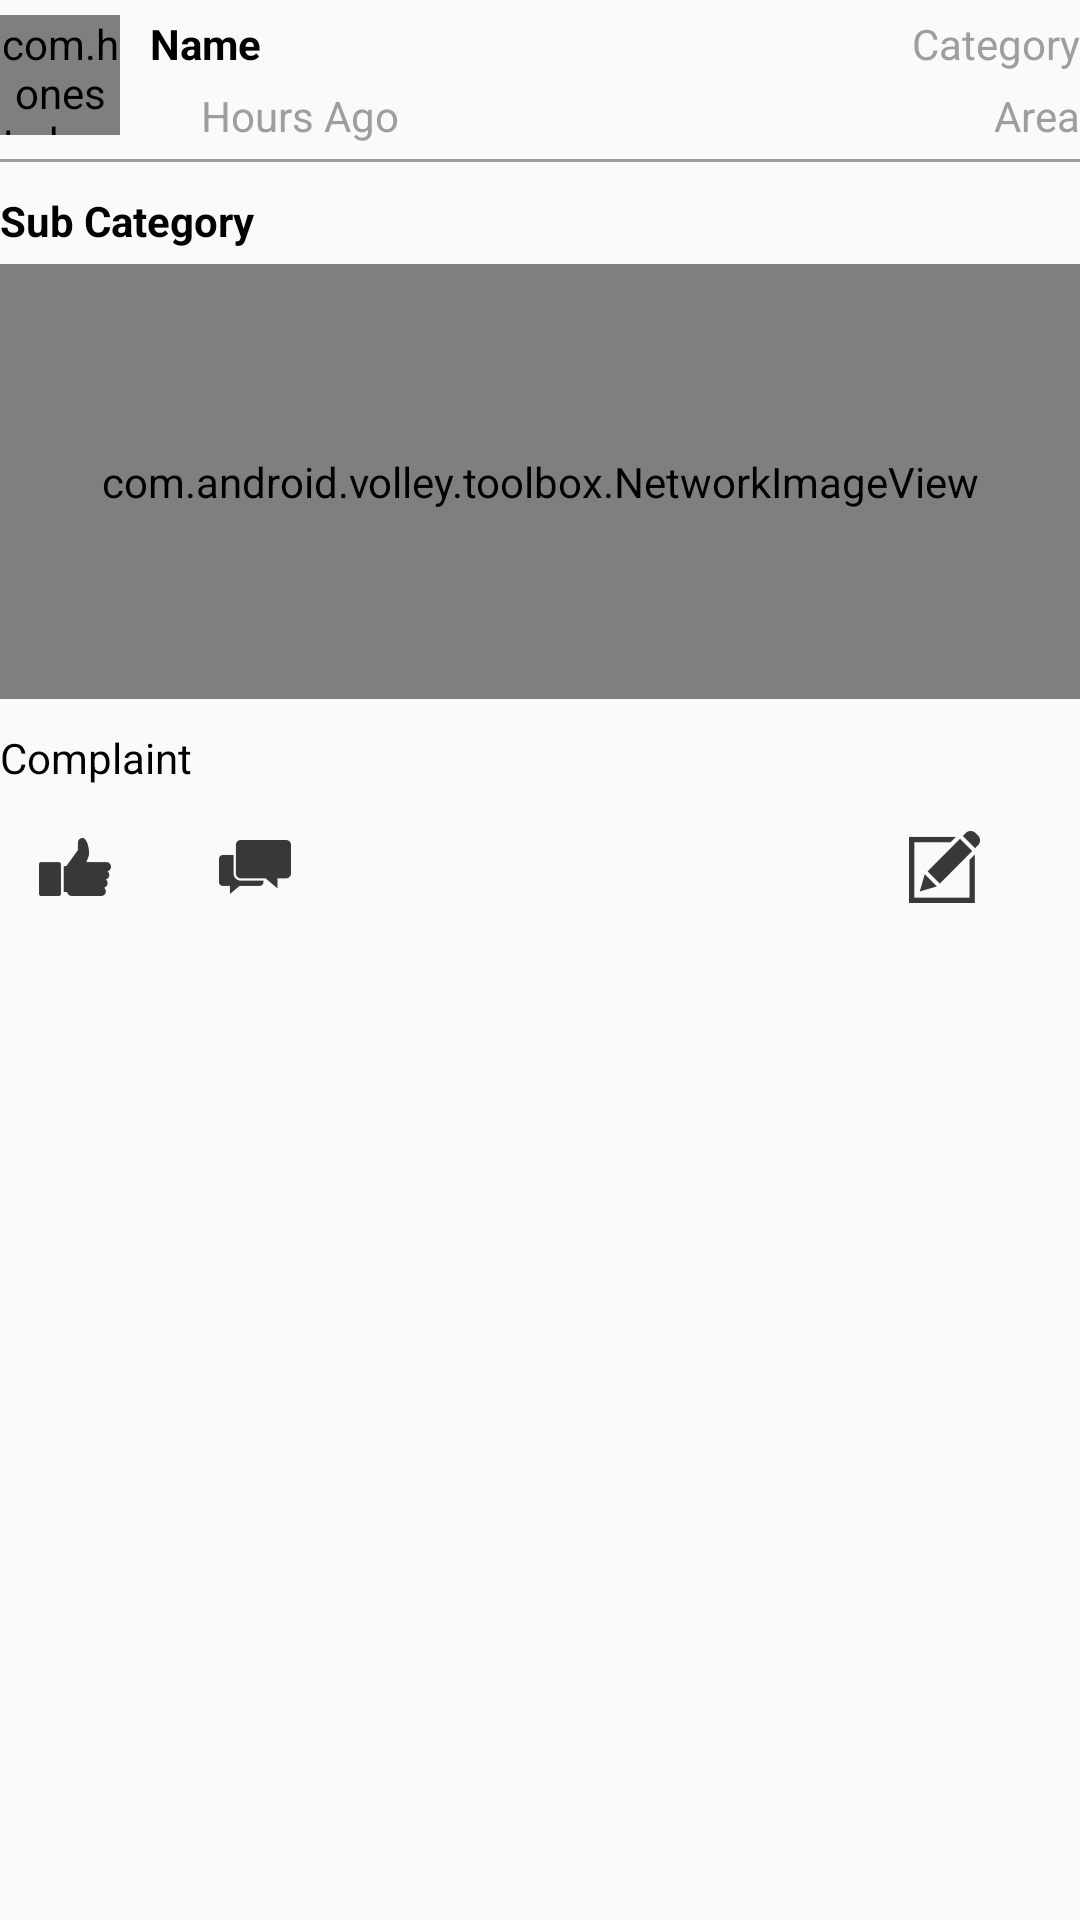

Icon click points for this 1080w x 1920h phone screenshot, format point (x, y):
comment: point (255, 867)
edit: point (944, 867)
